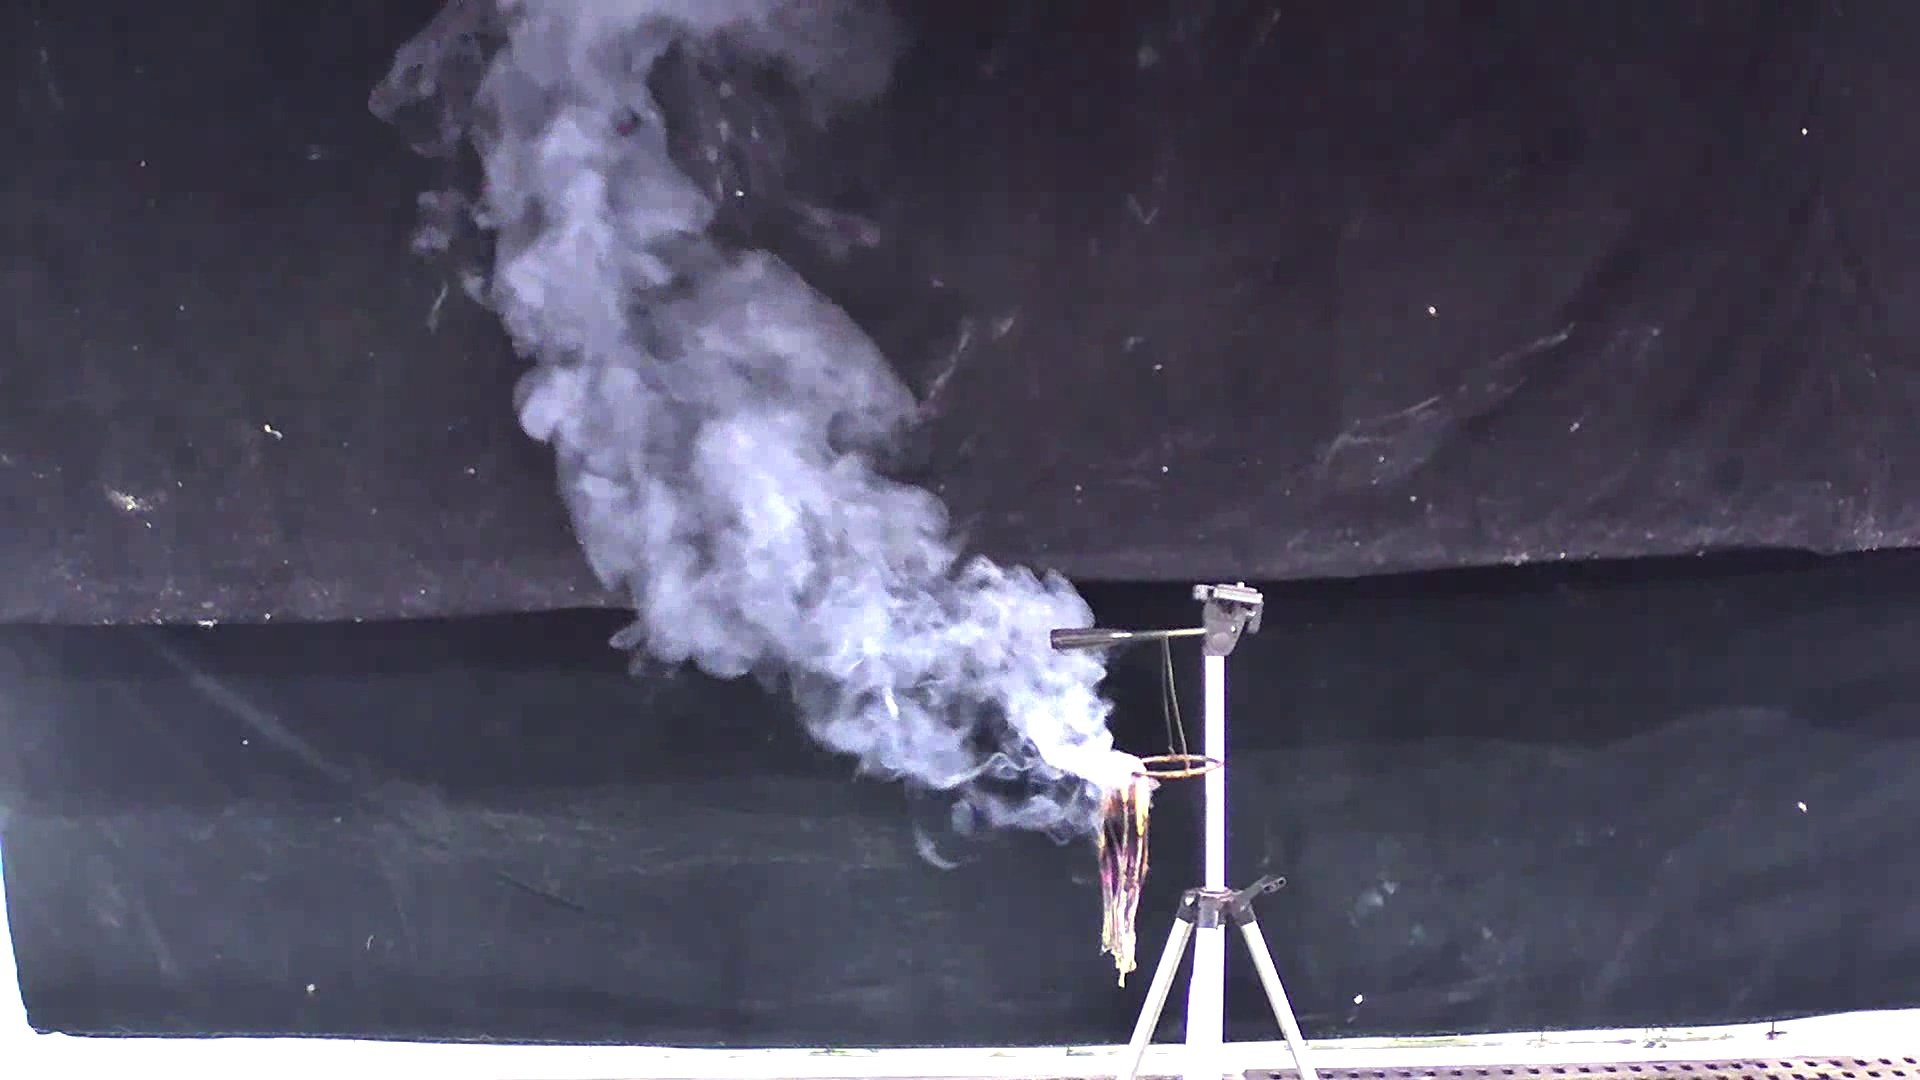smoke: (400, 1, 1163, 851)
